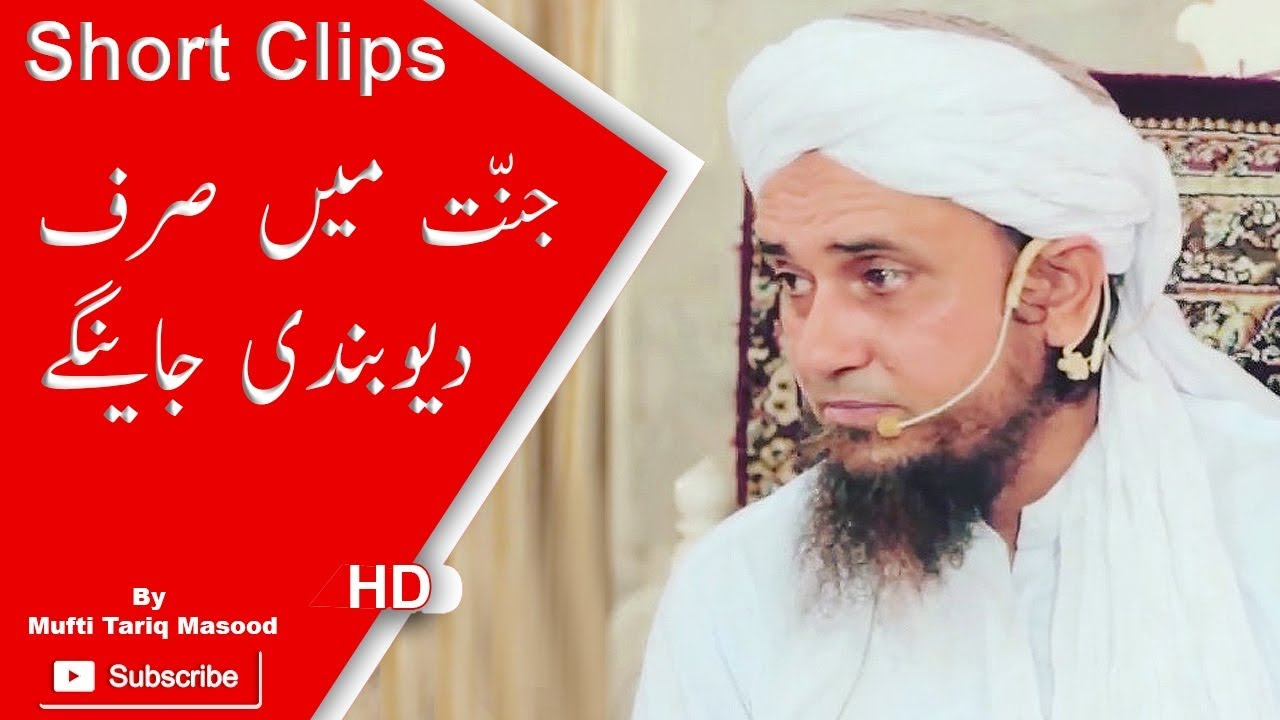NoMask: (757, 221, 980, 482)
